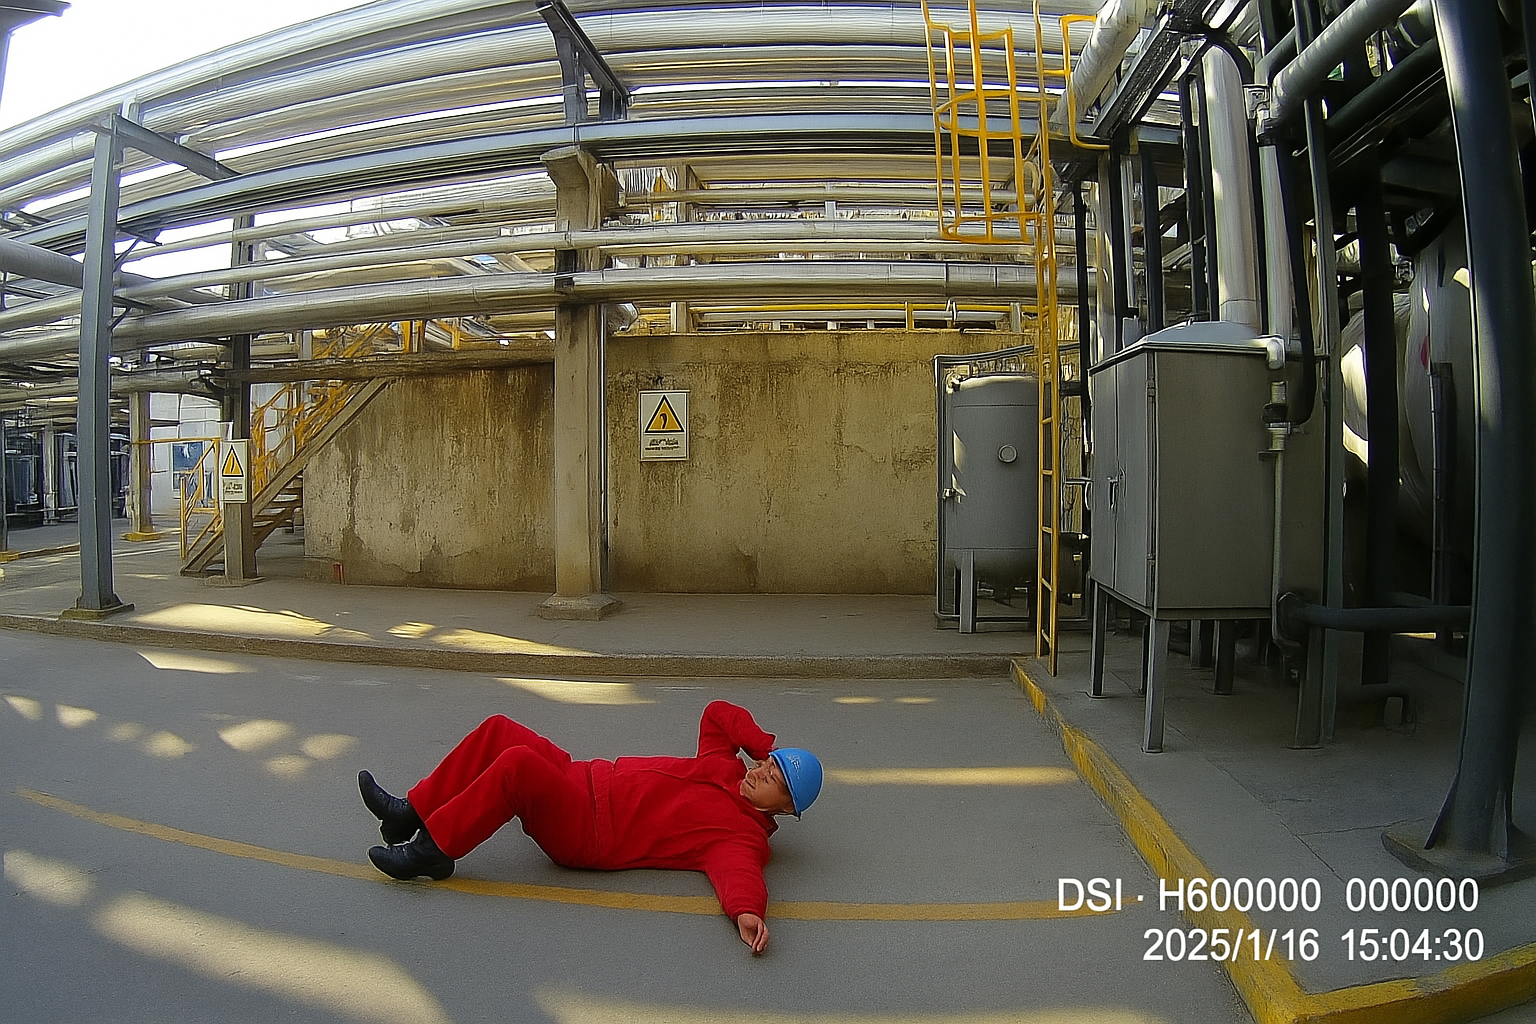trip: (315, 653, 851, 968)
